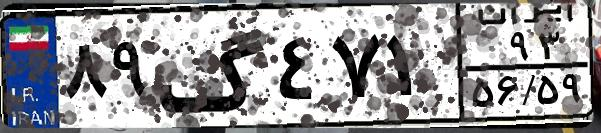1: (385, 28, 445, 110)
3: (537, 27, 568, 80)
4: (270, 28, 330, 110)
5: (470, 70, 495, 125), (535, 70, 560, 125)
6: (495, 70, 520, 125)
7: (330, 28, 385, 110)
8: (57, 26, 110, 100)
9: (110, 28, 156, 98), (560, 70, 590, 125), (508, 27, 537, 80)
گ: (156, 12, 270, 120)
